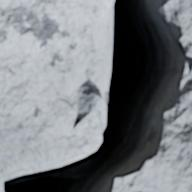brick: (0, 0, 110, 177)
crack: (2, 0, 191, 191)
